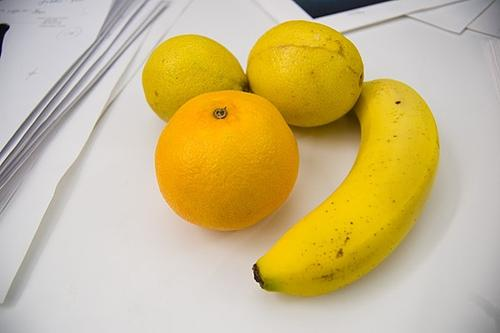banana: (252, 79, 440, 297)
lemon: (246, 19, 364, 127), (143, 33, 252, 122)
orange: (155, 90, 300, 231)
